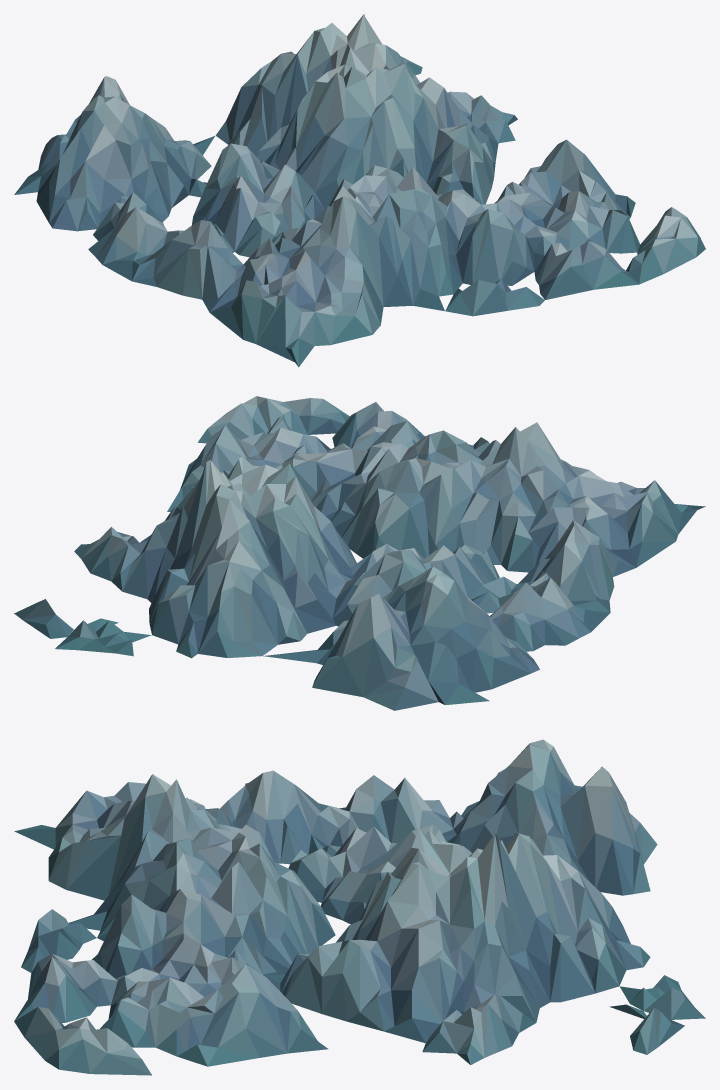
Rendered from Iceberg_E.fbx.
3 renders of one model, top to bottom at view 1: azimuth 30°, elevation 25°; view 2: azimuth 150°, elevation 25°; view 3: azimuth 270°, elevation 25°, orthographic. The views are drawn at different scales.
Parts seen in each view (by area): view 1: Iceberg_E; view 2: Iceberg_E; view 3: Iceberg_E.
Part boxes in pixels (x1=…): Iceberg_E: x1=14, y1=14, x2=705, y2=367; Iceberg_E: x1=14, y1=396, x2=705, y2=710; Iceberg_E: x1=14, y1=739, x2=705, y2=1075.
Size of the model in its own units: 9150 by 2426 by 10000.
